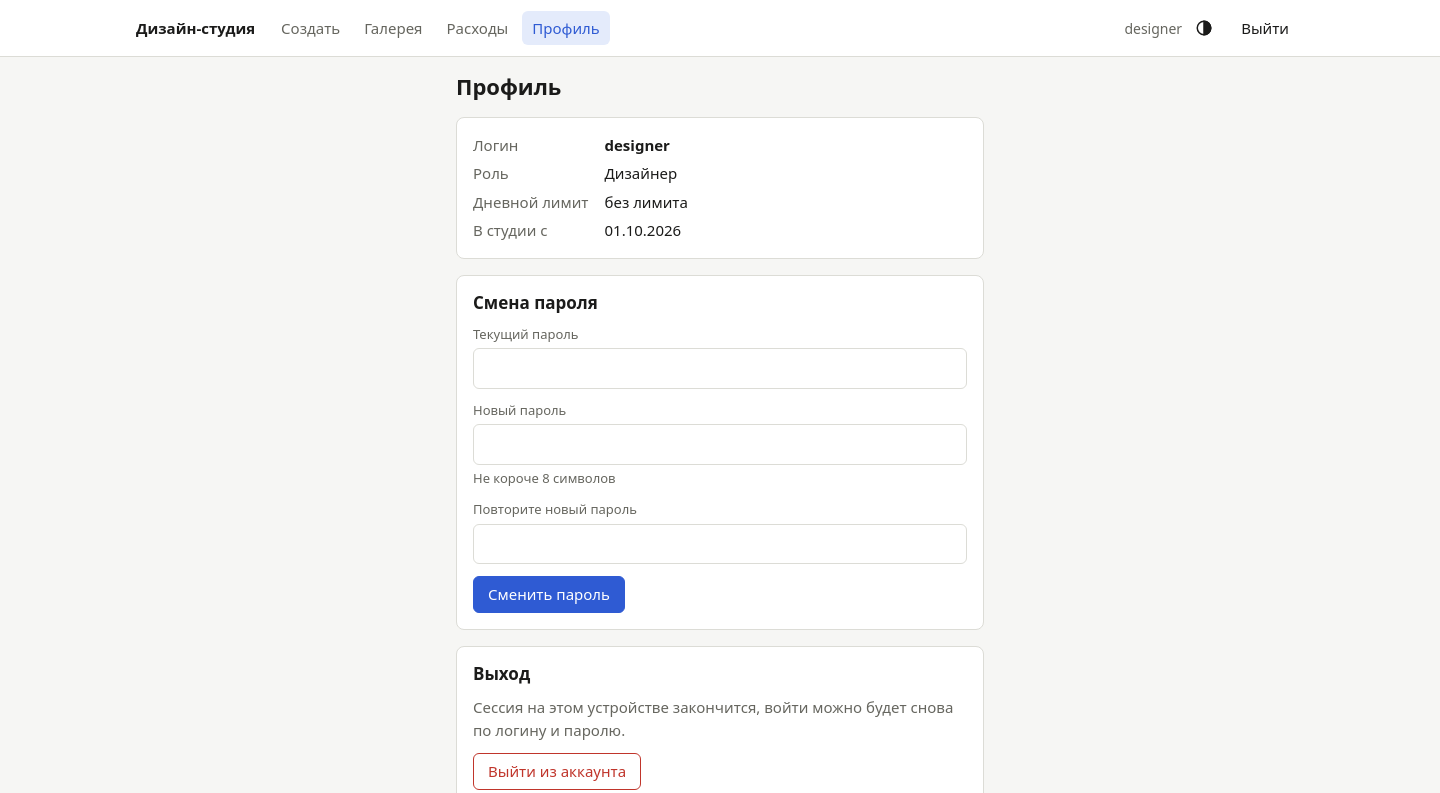
профиль › 422 без текста (ошибка валидации FastAPI) тоже объясняется по-русски
This screenshot has width=1440, height=793.
Type "designer123" into the password field labelled "Текущий пароль" at coordinates (720, 369), box [473,348,967,389]
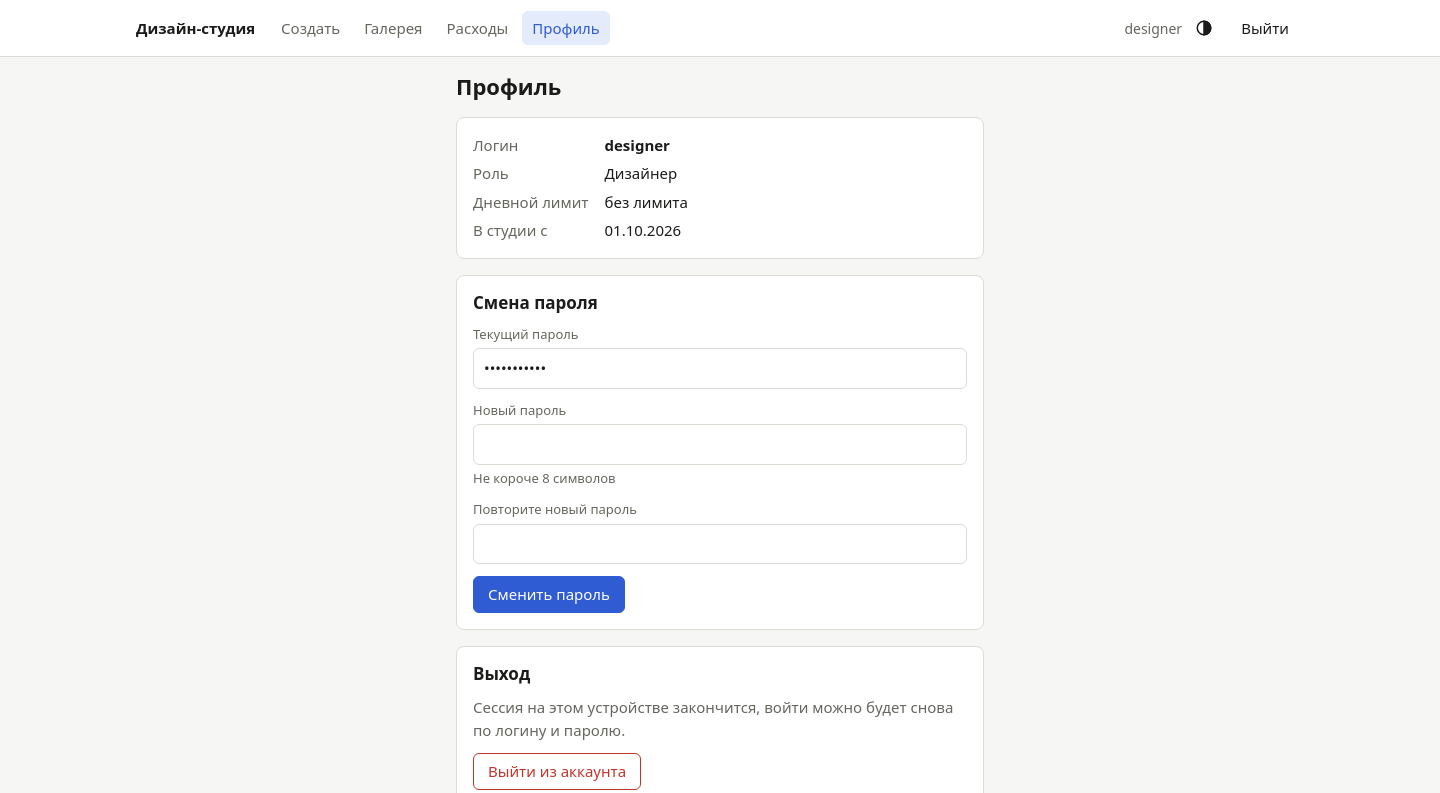
Type "new-password-1" into the password field labelled "Новый пароль" at coordinates (720, 445), box [473,424,967,465]
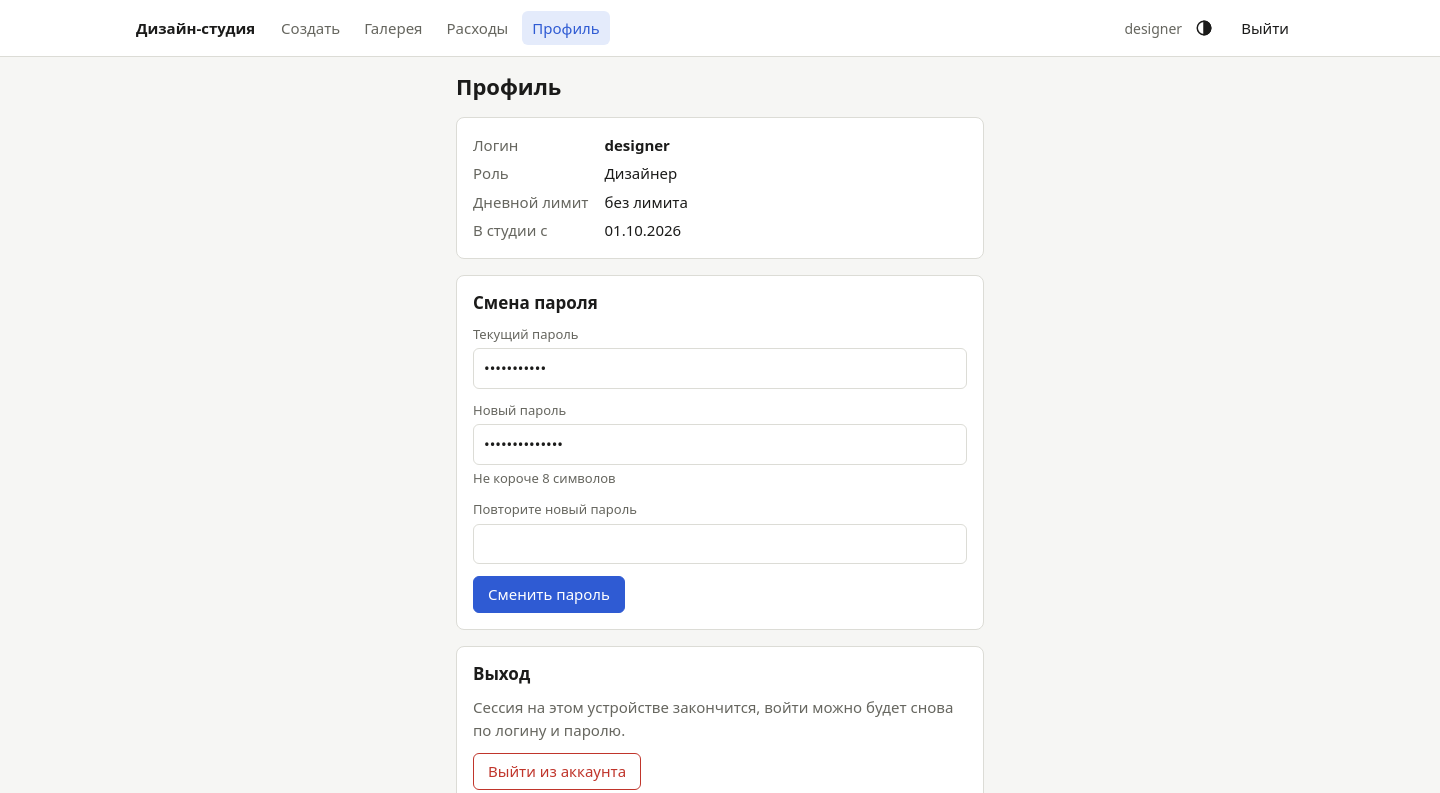
Type "new-password-1" into the password field labelled "Повторите новый пароль" at coordinates (720, 544), box [473,524,967,564]
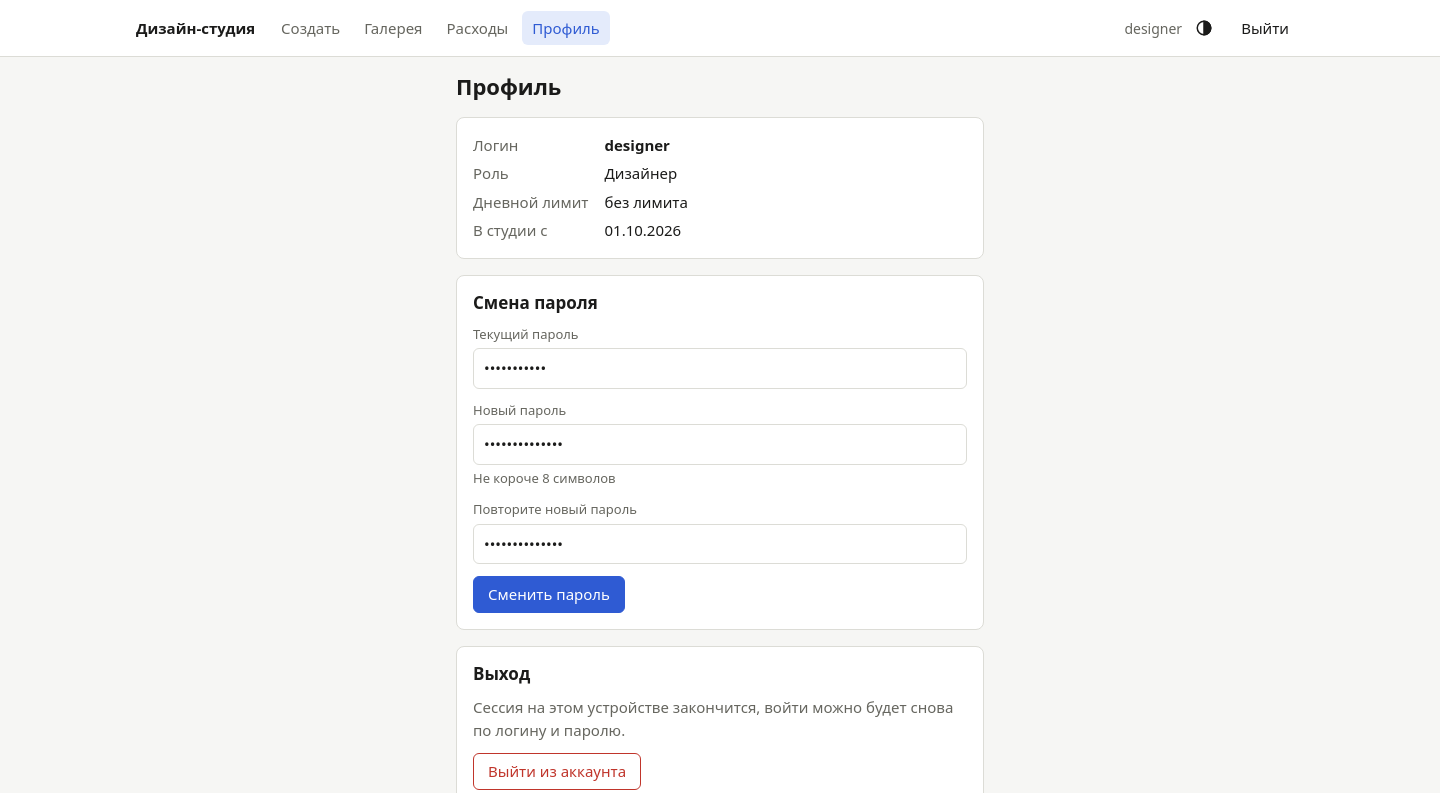
Submit the form with test id "pw-form", box [456,274,984,630]
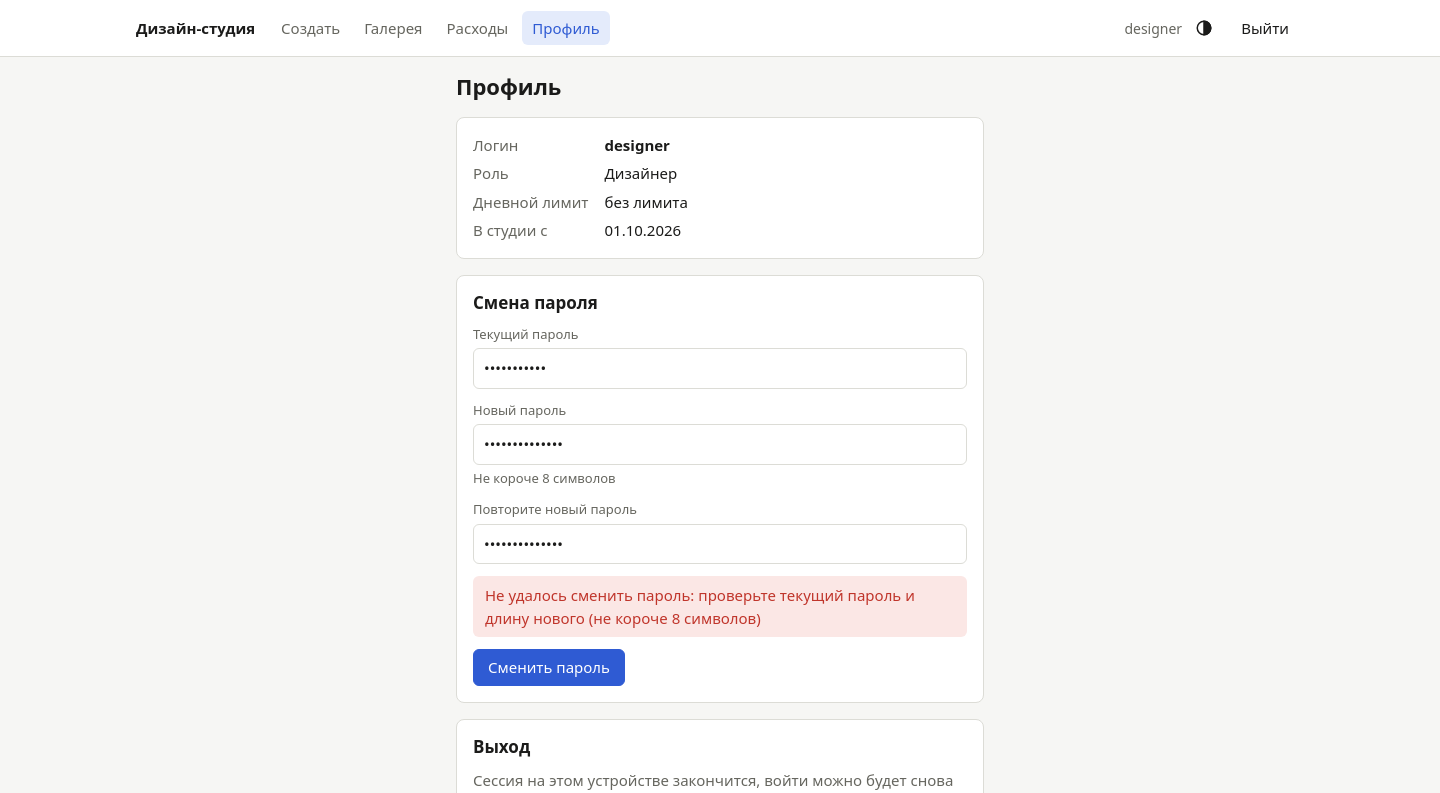
Now the message with test id "pw-error" shows "Не удалось сменить пароль: проверьте текущий пароль и длину нового (не короче 8 символов)", box [485,585,915,628]
